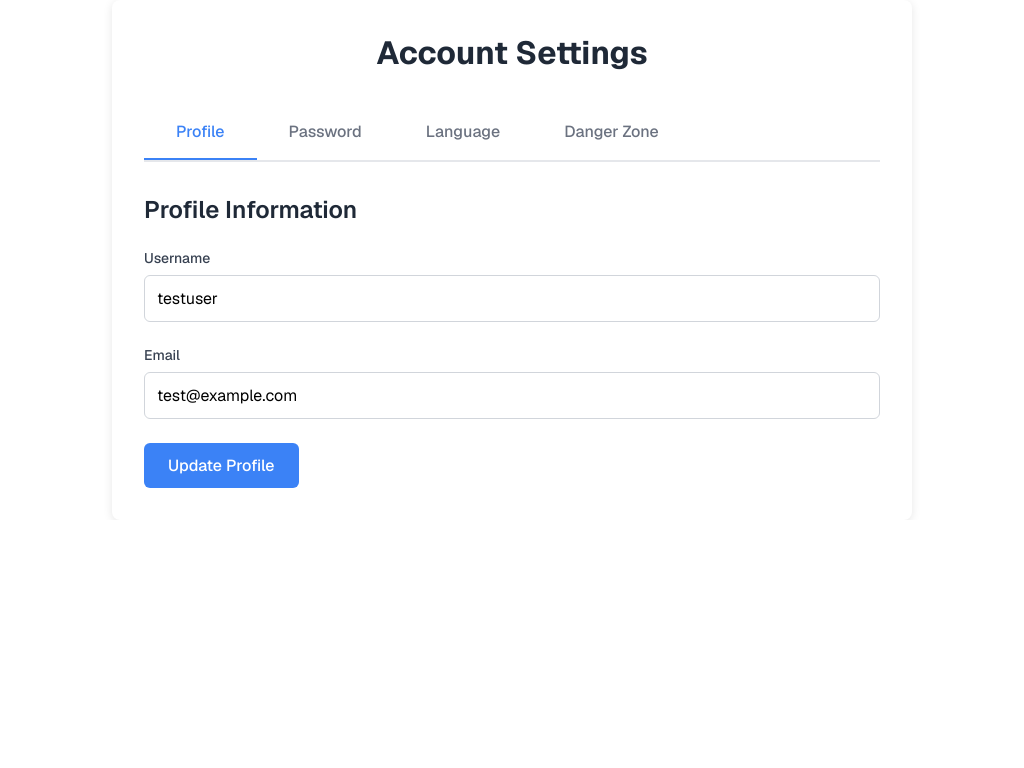
Test: AccountSettings › updates password successfully
Click the button "Password".
click(325, 132)  # box [257, 105, 394, 160]
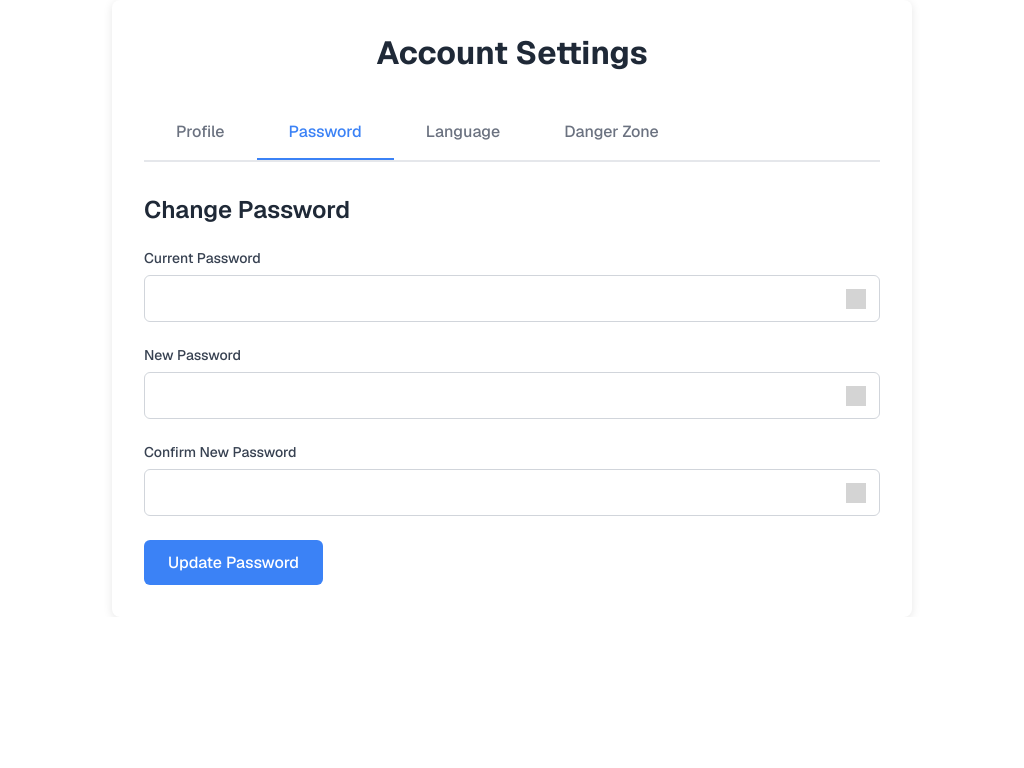
Type "currentpass" into the password field labelled "Current Password".
click(512, 298); type("currentpass")  # box [144, 275, 880, 322]
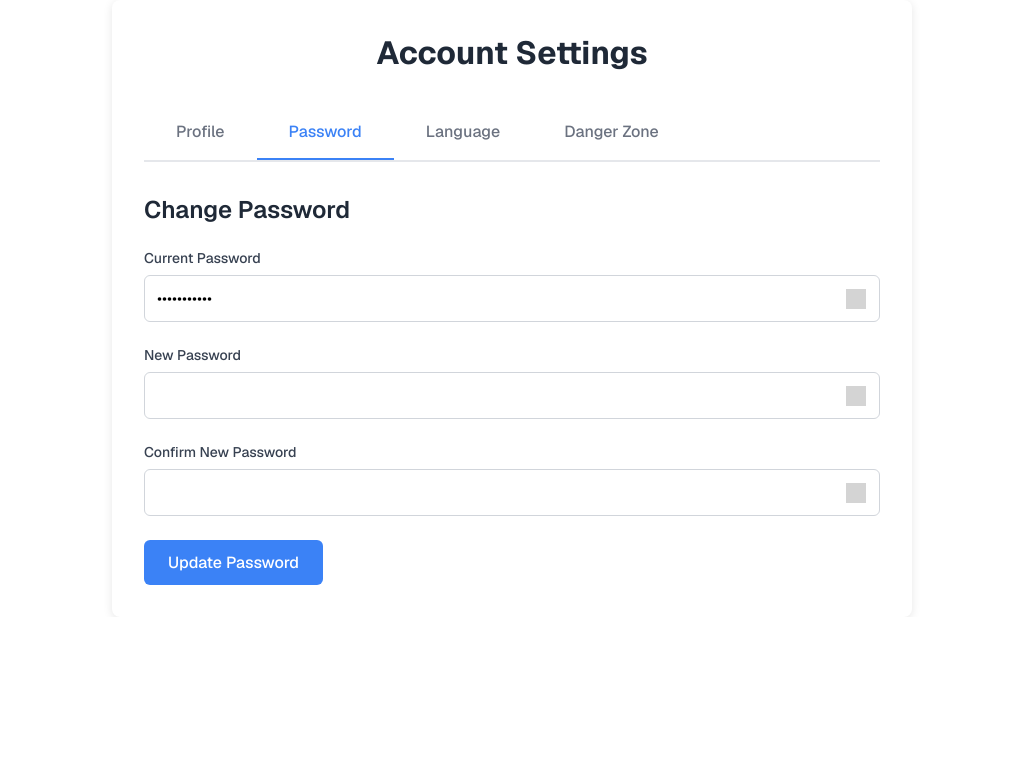
Type "newpass123" into the password field labelled "New Password".
click(512, 396); type("newpass123")  # box [144, 372, 880, 419]
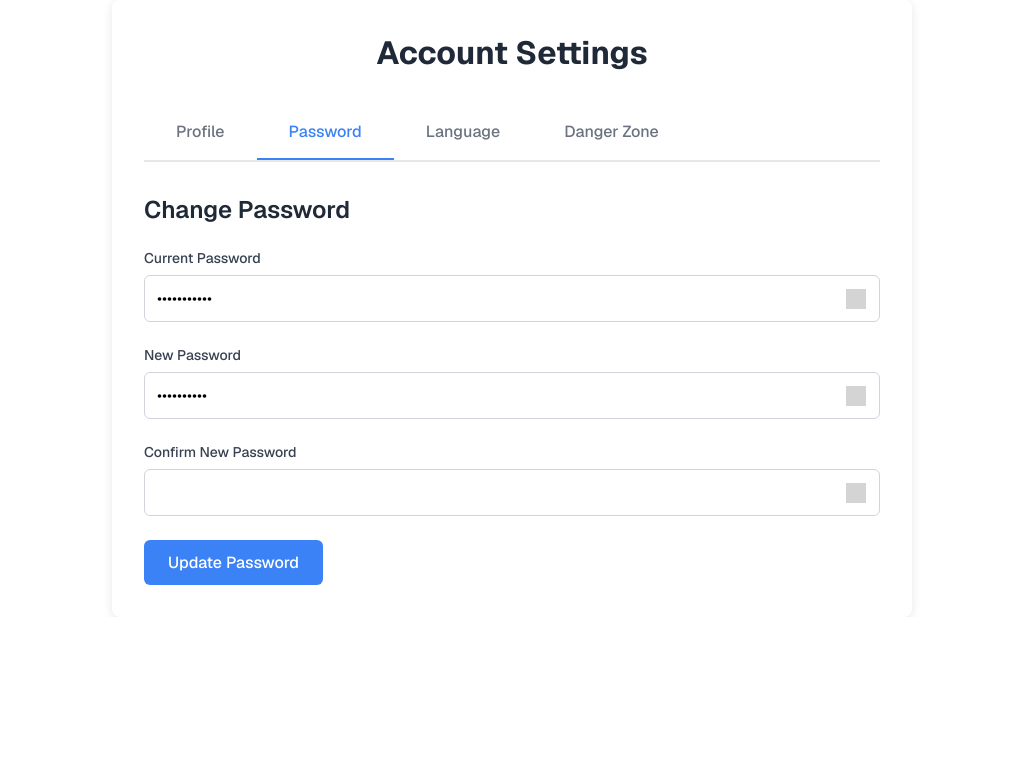
Type "newpass123" into the password field labelled "Confirm New Password".
click(512, 492); type("newpass123")  # box [144, 469, 880, 516]
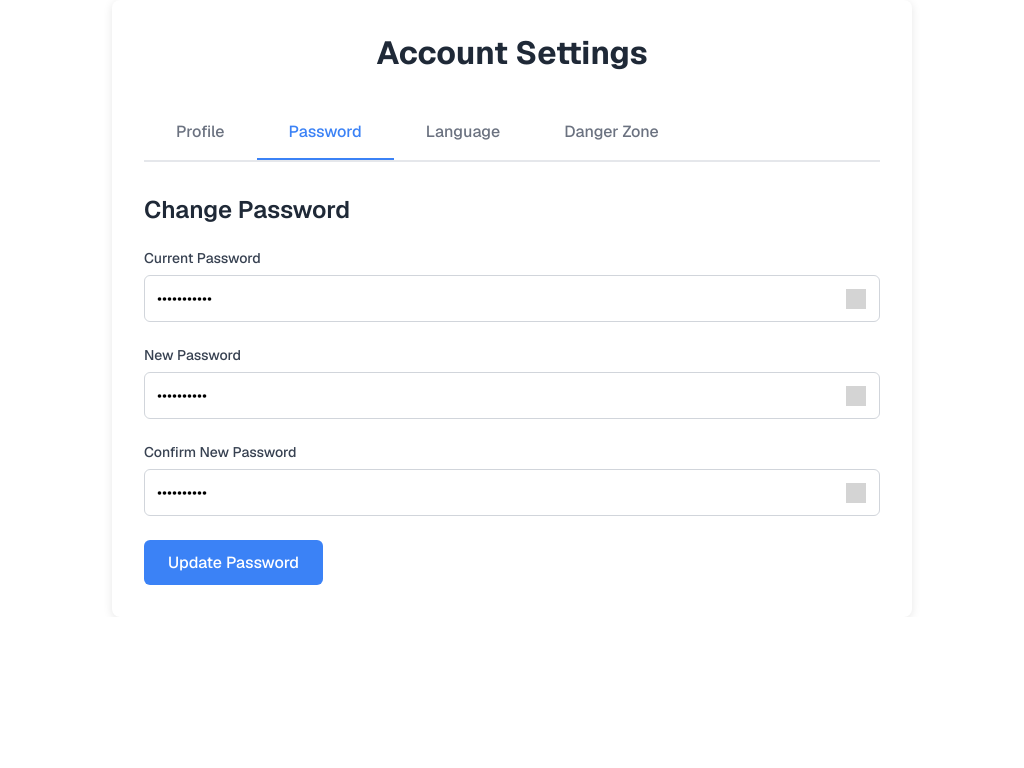
Click the button "Update Password".
click(234, 562)  # box [144, 540, 323, 585]
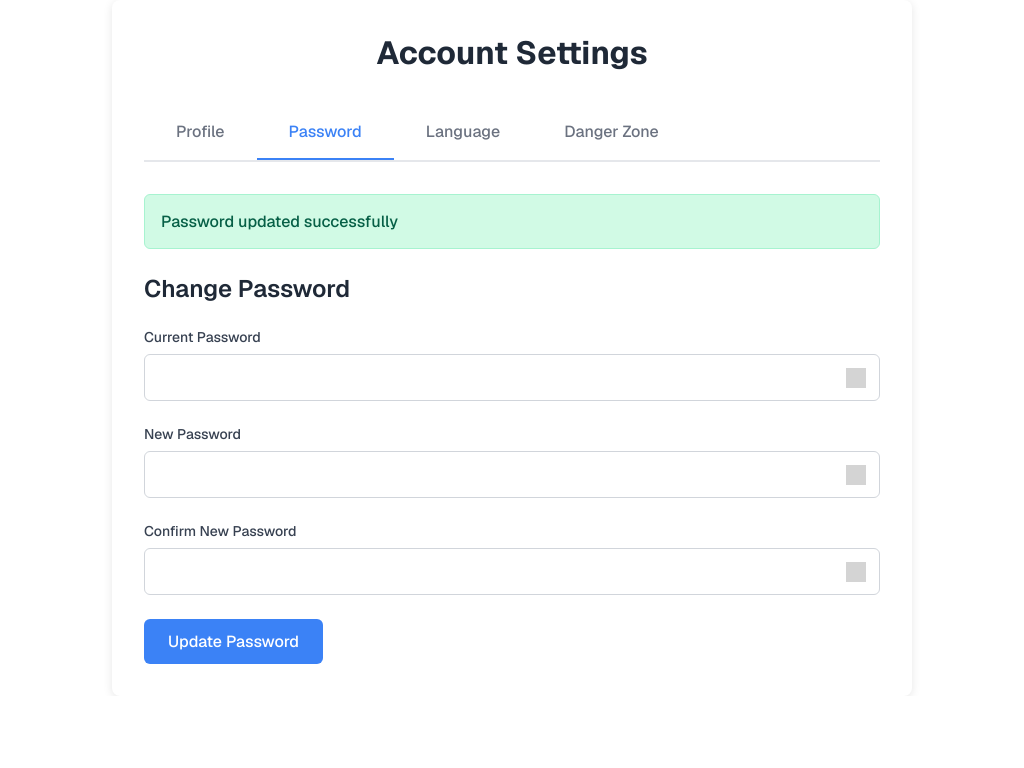
Now the text "Password updated successfully" is shown, box [144, 194, 880, 249]
